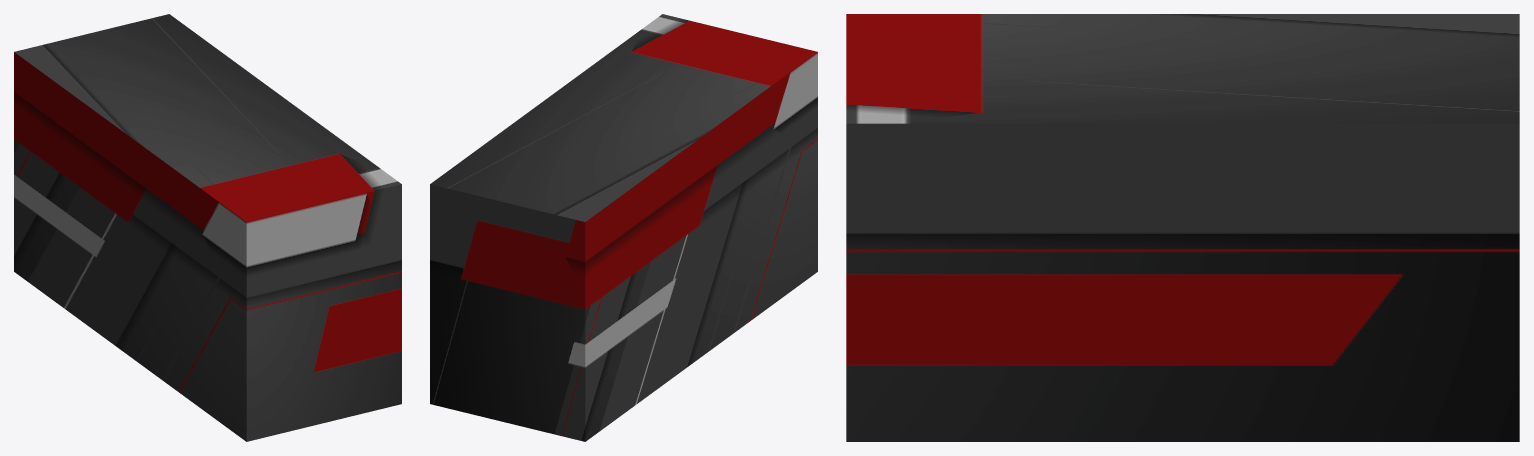
File: Ninja_Platform_High_01.fbx
The picture shows the model from 3 angles, left to right: view 1: azimuth 30°, elevation 25°; view 2: azimuth 150°, elevation 25°; view 3: azimuth 270°, elevation 25°; orthographic projection. The views are drawn at different scales.
Visible parts, largest first — view 1: Platform_High; view 2: Platform_High; view 3: Platform_High.
Part boxes in pixels (x1,y1,x2,y2): Platform_High: (14,14,401,441); Platform_High: (430,14,817,441); Platform_High: (846,14,1519,441).
Bounding box in the file's own units: 186 × 251 × 482.
